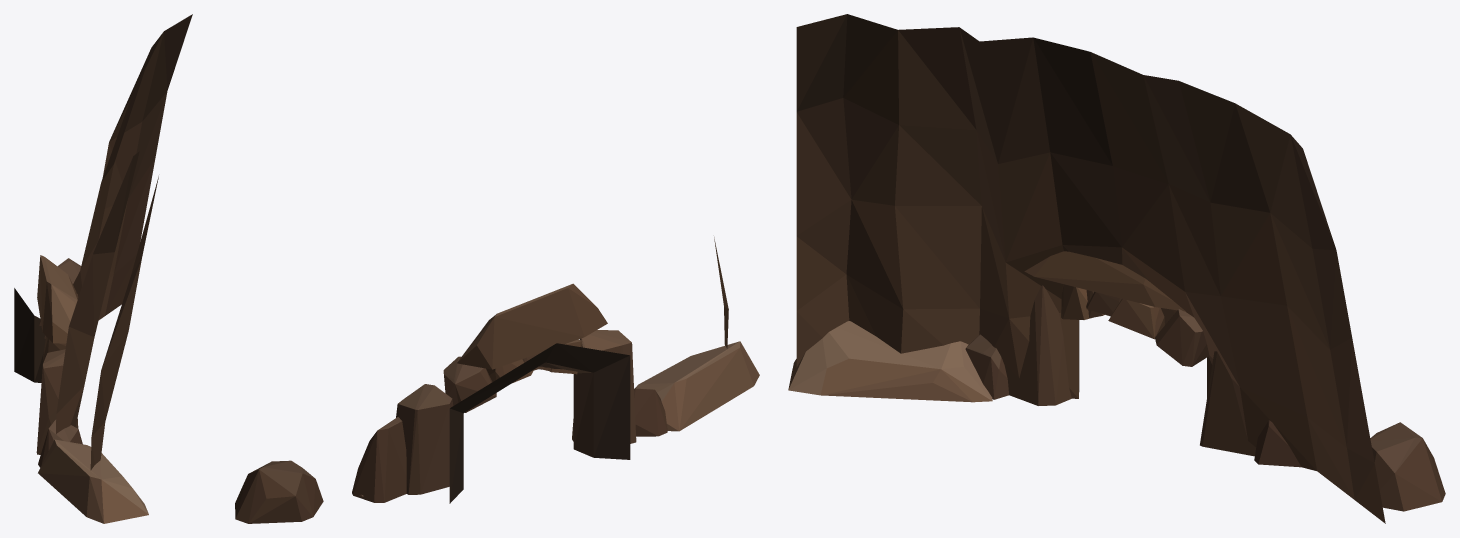
Rendered from tl_cave_main_wall_02_v01.glb.
The picture shows the model from 3 angles, left to right: view 1: azimuth 30°, elevation 25°; view 2: azimuth 150°, elevation 25°; view 3: azimuth 270°, elevation 25°; orthographic projection. The views are drawn at different scales.
Visible parts, largest first — view 1: tl_cave_main_wall_02_v01; view 2: tl_cave_main_wall_02_v01; view 3: tl_cave_main_wall_02_v01.
Boxes of the visible parts, x1=… form: tl_cave_main_wall_02_v01: x1=14, y1=14, x2=192, y2=523; tl_cave_main_wall_02_v01: x1=235, y1=237, x2=759, y2=523; tl_cave_main_wall_02_v01: x1=788, y1=14, x2=1445, y2=523.
Bounding box in the file's own units: 14.83 × 15.26 × 22.23.
